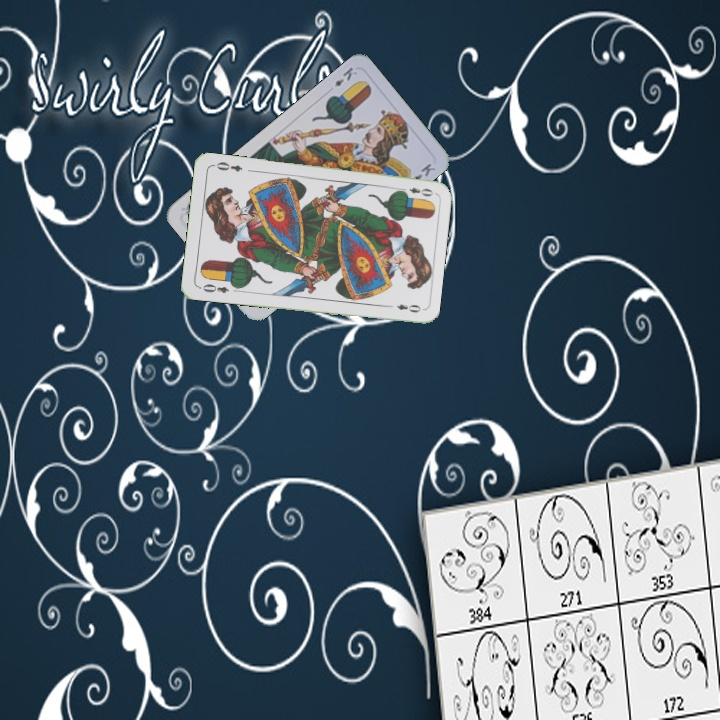EK: (330, 63, 360, 89)
EO: (396, 183, 436, 199), (195, 280, 231, 296)
